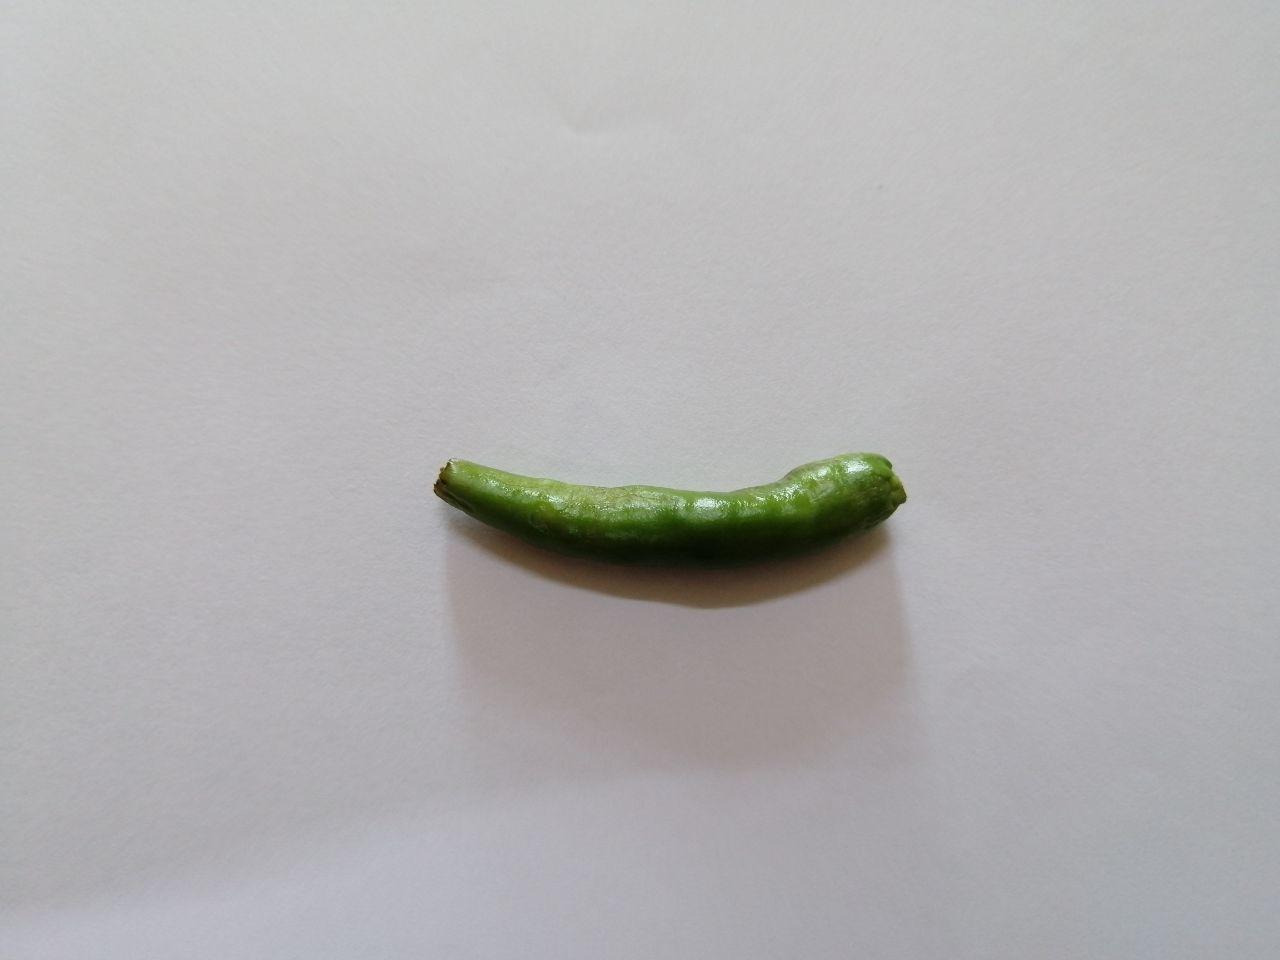lada hijau: (415, 439, 925, 614)
